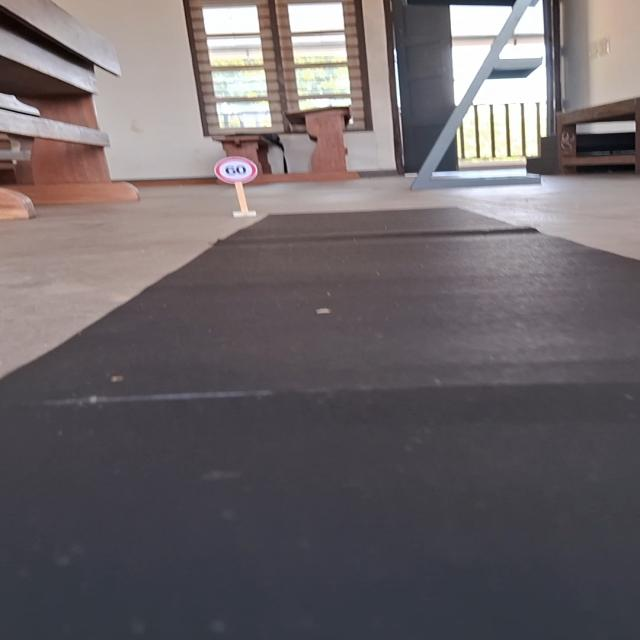Speed60: (210, 155, 260, 186)
